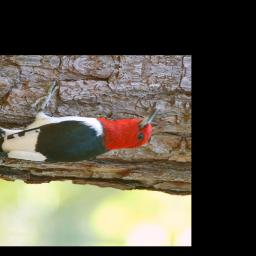Woodpecker: (0, 74, 160, 172)
